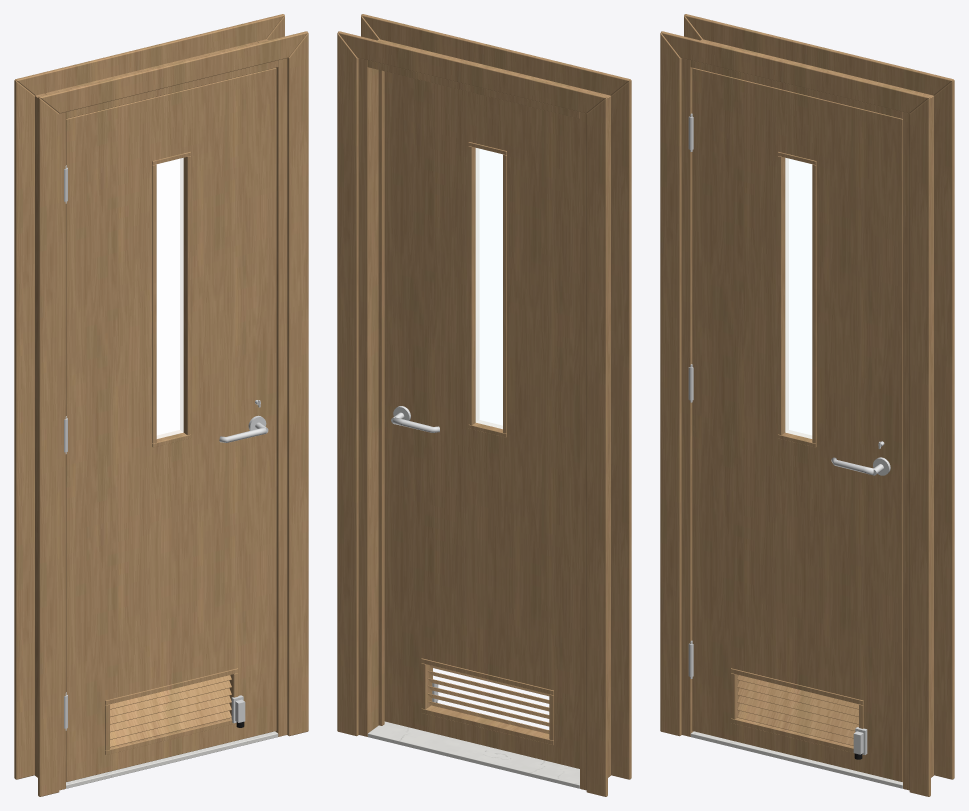
Rendered from door_bath_l.glb.
3 views of the same model, side by side, from view 1: azimuth 30°, elevation 25°; view 2: azimuth 150°, elevation 25°; view 3: azimuth 330°, elevation 25° (orthographic).
Visible parts, largest first — view 1: door_bath_l_leaf_body, door_bath_l_casing, door_bath_l_frame, door_bath_l_louver, door_bath_l_glass_slit, door_bath_l_handle; view 2: door_bath_l_leaf_body, door_bath_l_casing, door_bath_l_frame, door_bath_l_louver, door_bath_l_glass_slit, door_bath_l_handle; view 3: door_bath_l_leaf_body, door_bath_l_casing, door_bath_l_frame, door_bath_l_louver, door_bath_l_glass_slit, door_bath_l_handle, door_bath_l_hinges.
Part boxes in pixels (left/top/right/bottom): door_bath_l_leaf_body: left=66, top=68, right=276, bottom=781; door_bath_l_casing: left=14, top=14, right=308, bottom=796; door_bath_l_frame: left=35, top=39, right=287, bottom=790; door_bath_l_louver: left=105, top=152, right=238, bottom=754; door_bath_l_glass_slit: left=156, top=158, right=183, bottom=438; door_bath_l_handle: left=219, top=400, right=268, bottom=727; door_bath_l_leaf_body: left=384, top=71, right=579, bottom=768; door_bath_l_casing: left=337, top=14, right=631, bottom=796; door_bath_l_frame: left=358, top=39, right=610, bottom=790; door_bath_l_louver: left=421, top=142, right=553, bottom=744; door_bath_l_glass_slit: left=475, top=148, right=502, bottom=429; door_bath_l_handle: left=391, top=406, right=439, bottom=702; door_bath_l_leaf_body: left=692, top=68, right=902, bottom=781; door_bath_l_casing: left=660, top=14, right=954, bottom=796; door_bath_l_frame: left=681, top=39, right=933, bottom=790; door_bath_l_louver: left=730, top=152, right=863, bottom=754; door_bath_l_glass_slit: left=785, top=158, right=812, bottom=438; door_bath_l_handle: left=831, top=441, right=890, bottom=759; door_bath_l_hinges: left=688, top=113, right=693, bottom=678.
Size of the model in its own units: 0.87 by 2.16 by 0.1848.
Materials: 5 (2 with a texture image).
